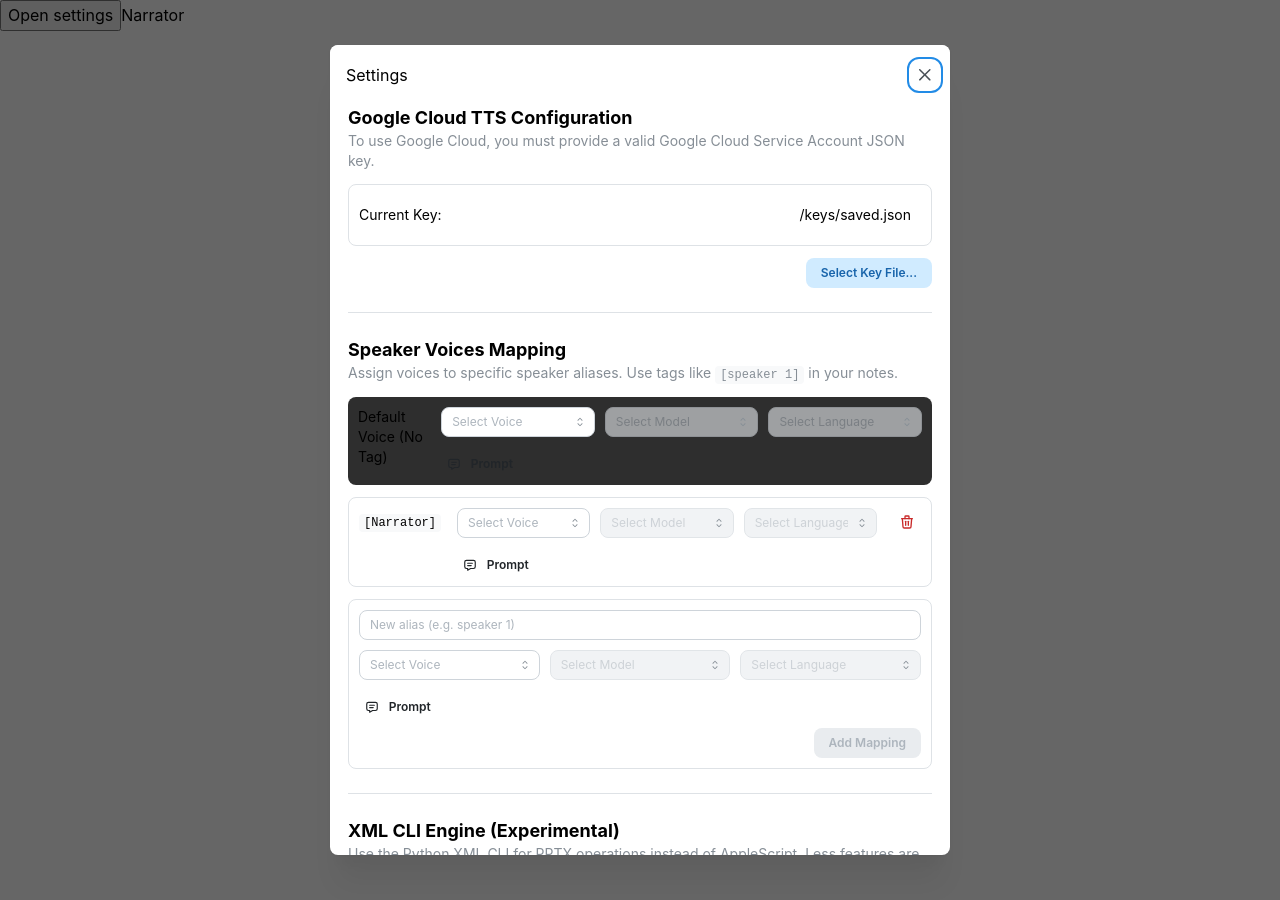
Test: refuses a new speaker whose alias is already mapped
In the field with placeholder "New alias (e.g. speaker 1)": [640, 625] box x1=359 y1=610 x2=921 y2=640, type " Narrator "
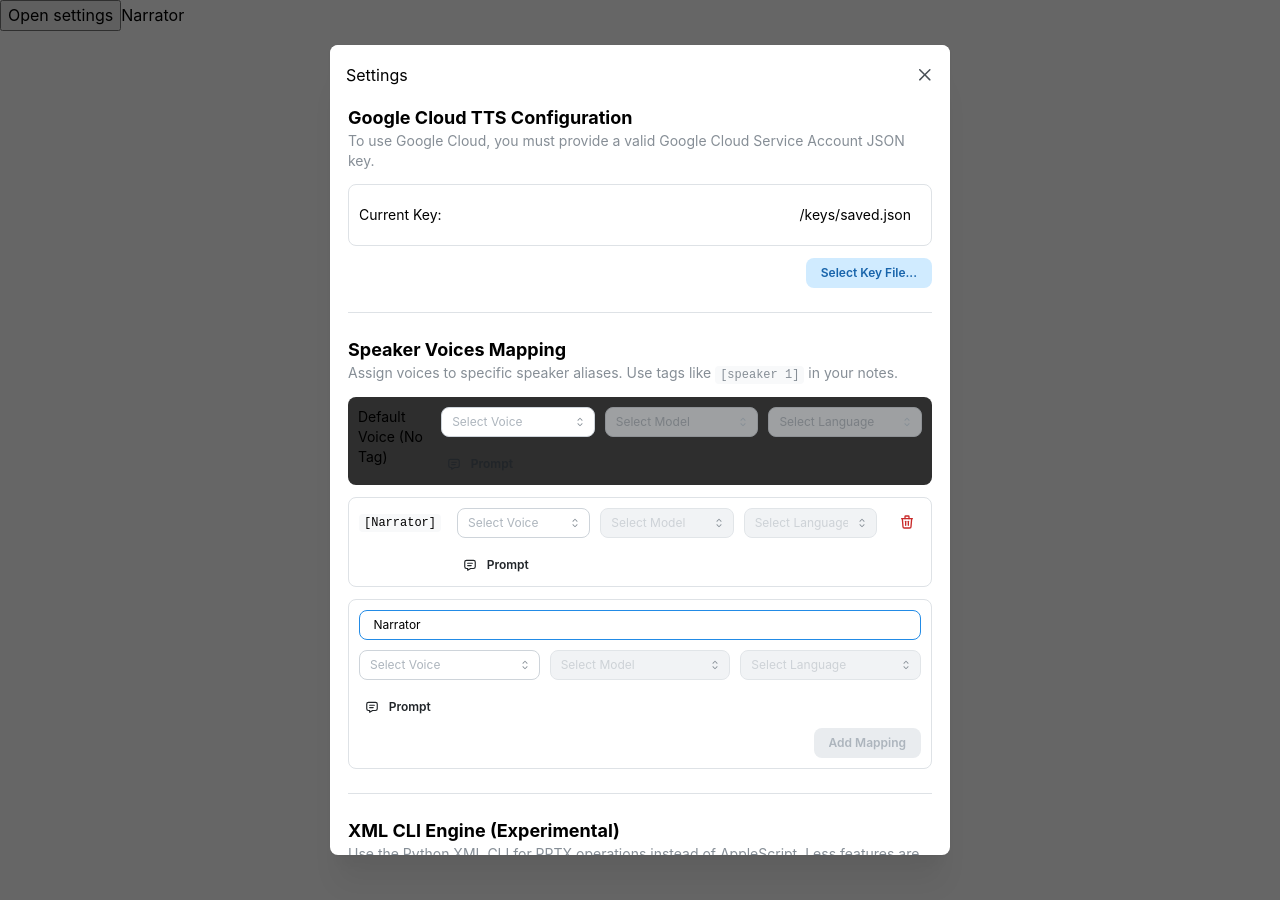
Click the dropdown named "Voice for new speaker": [449, 665] box x1=359 y1=650 x2=540 y2=680
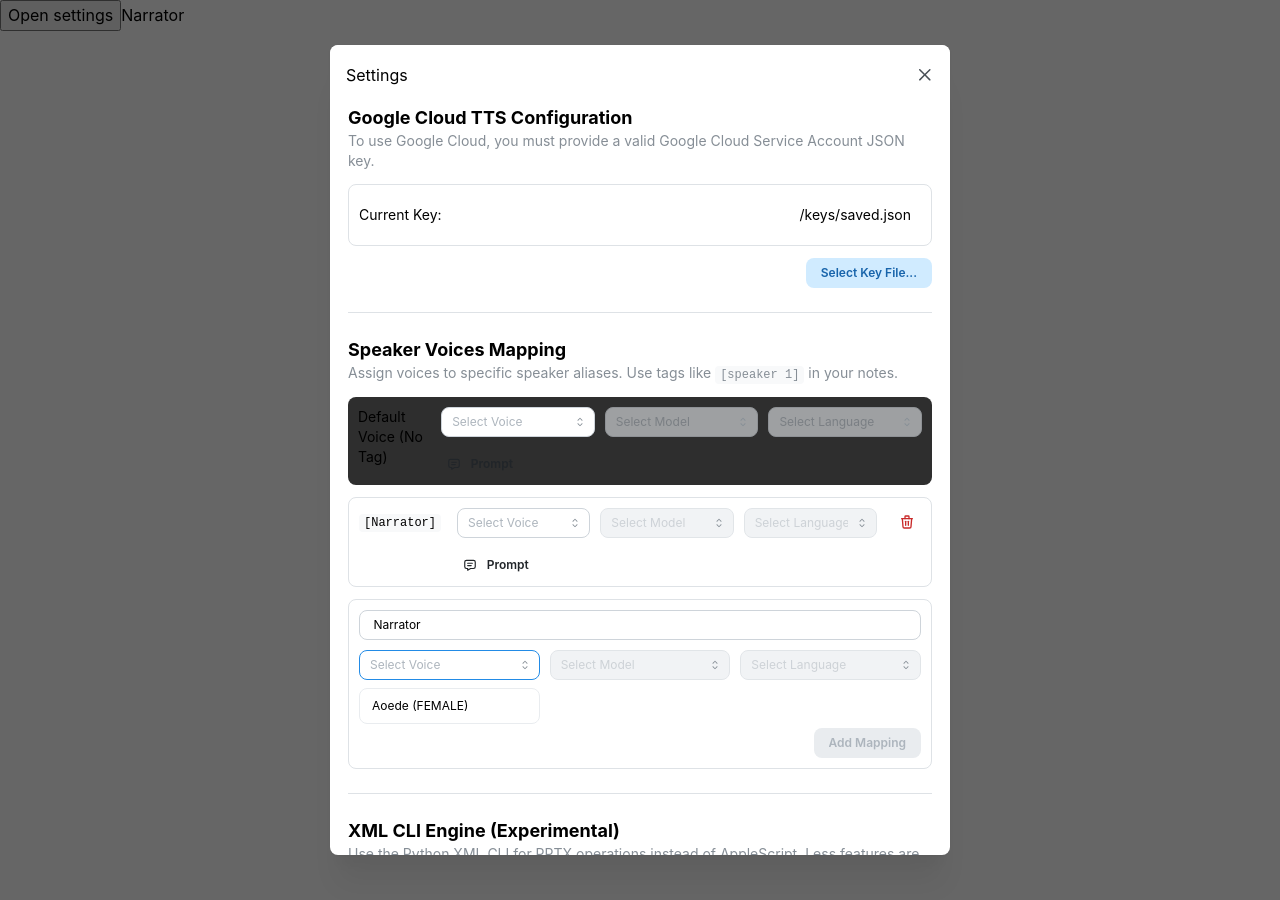
Click the option "Aoede (FEMALE)": [420, 705] box x1=372 y1=698 x2=468 y2=713
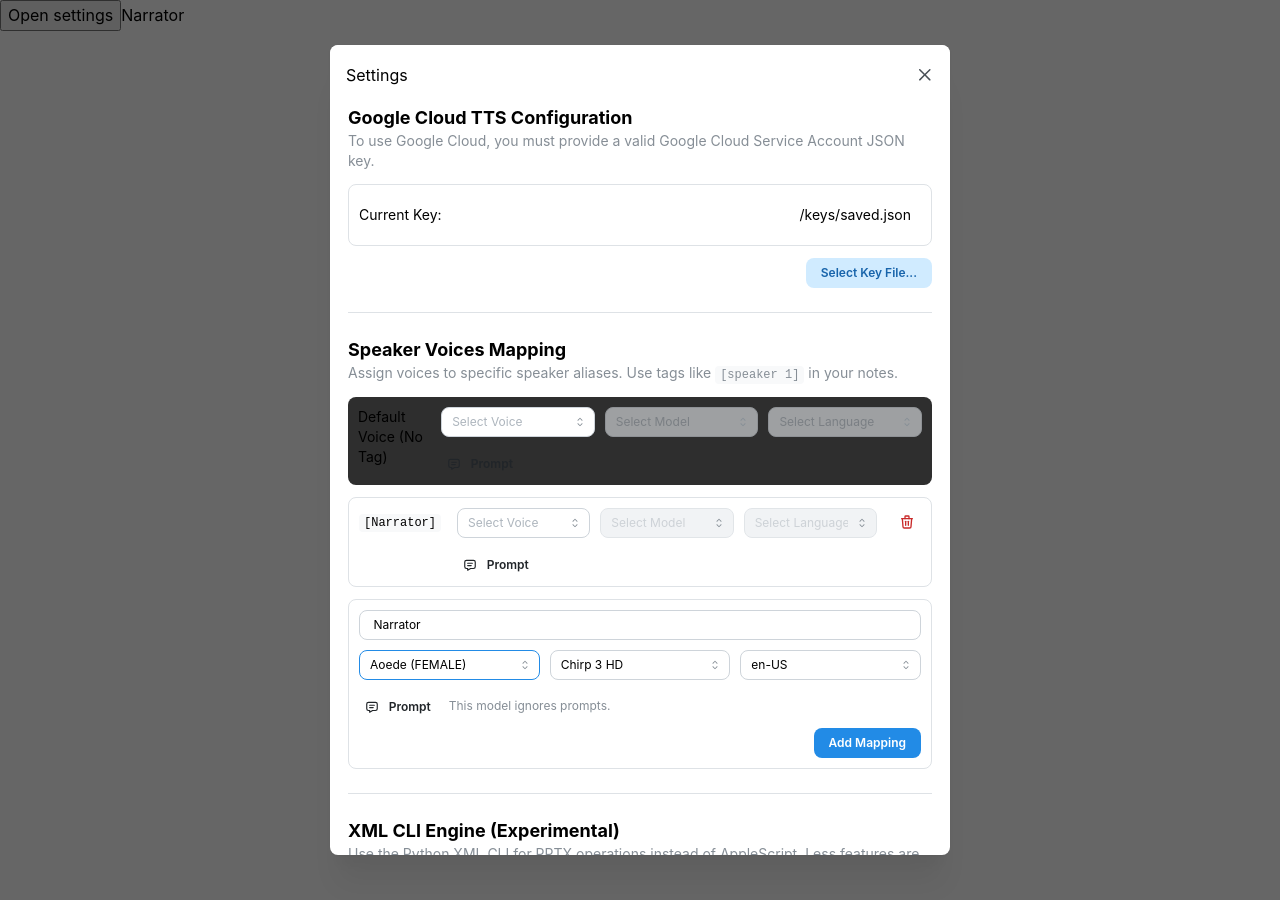
Click the button "Add Mapping": [867, 743] box x1=814 y1=728 x2=921 y2=758
(page scrolled)
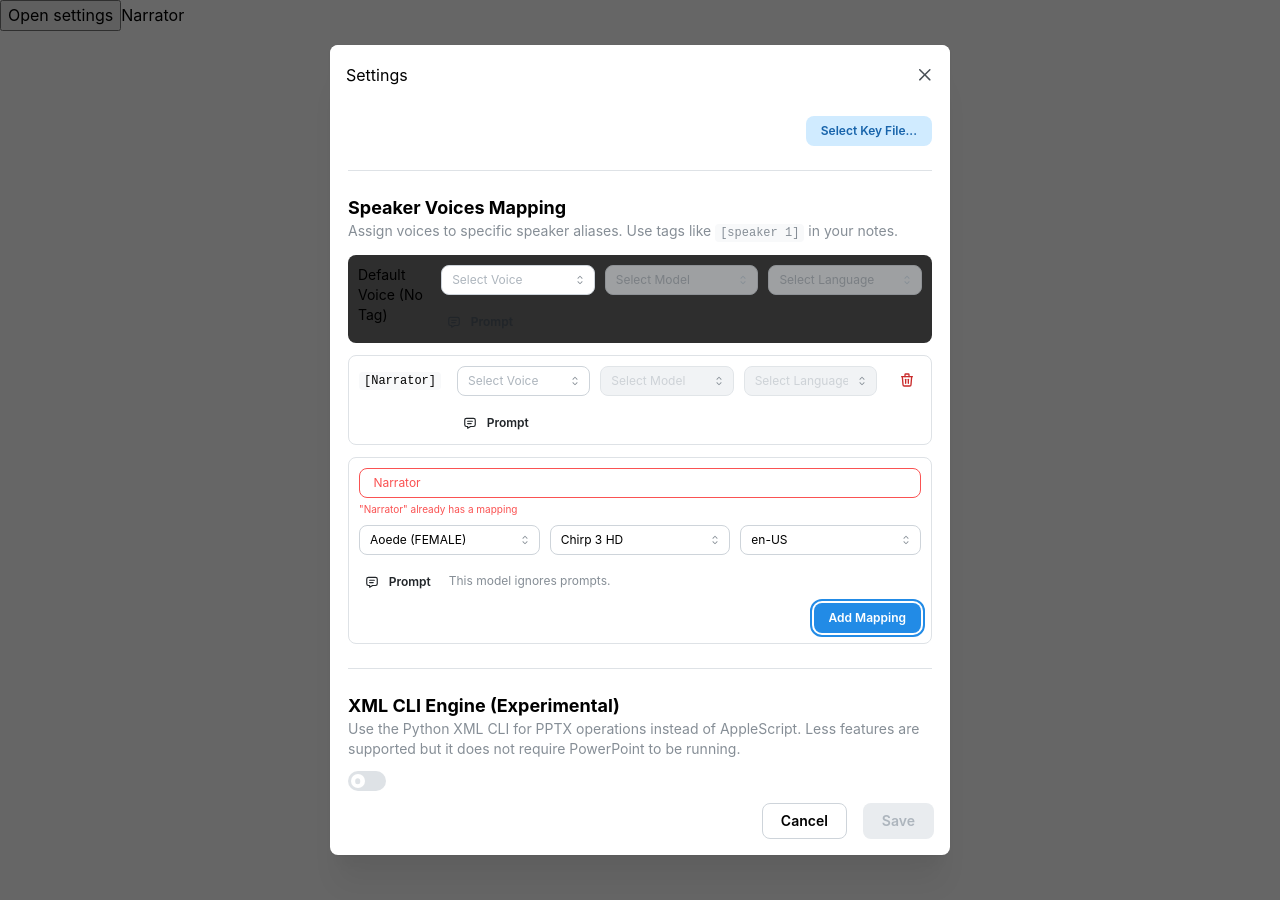
Now the text "\"Narrator\" already has a mapping" is shown, box x1=359 y1=503 x2=517 y2=515
Now the button "Save" is disabled, box x1=863 y1=803 x2=934 y2=839
